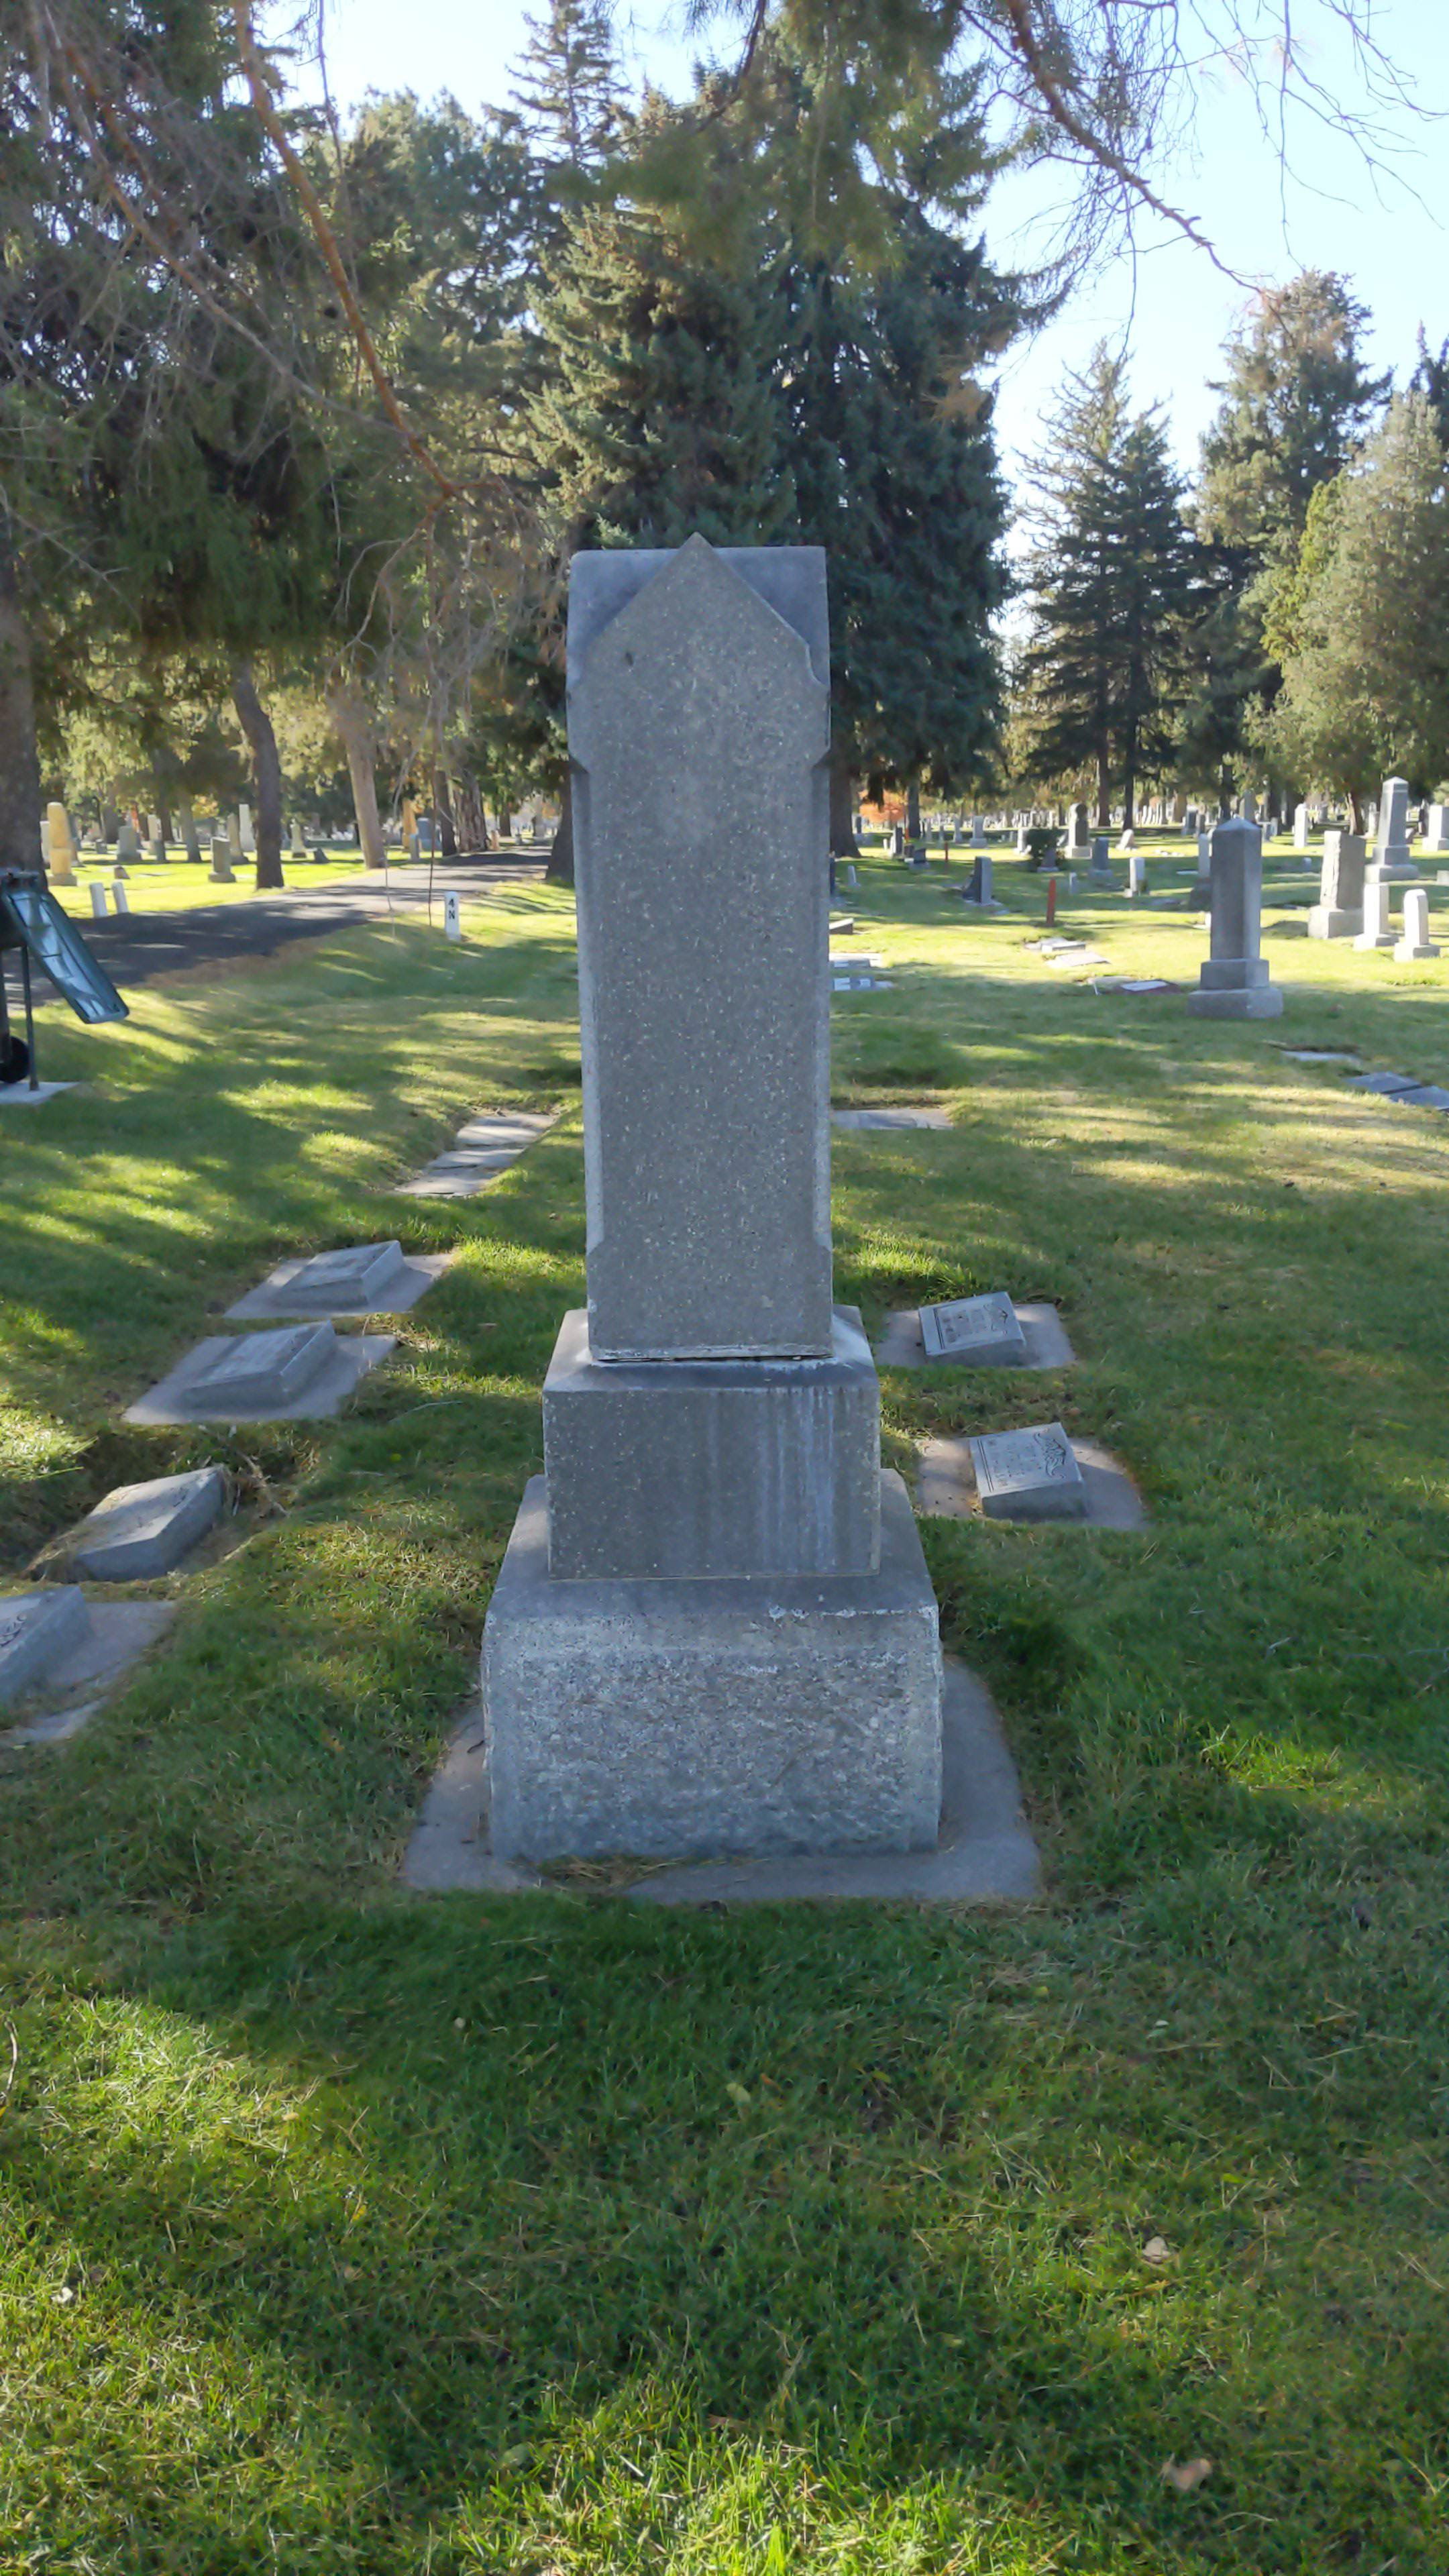obelisk: (538, 536, 885, 1594)
